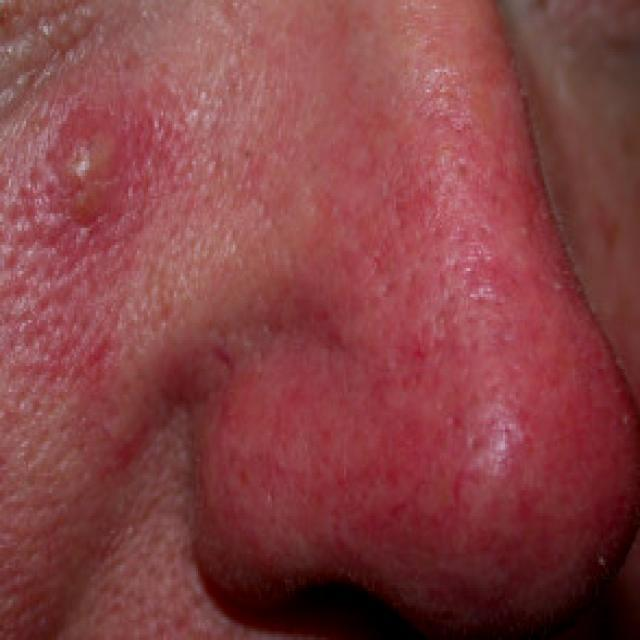Rosacea: (191, 62, 629, 607), (6, 77, 174, 381)
